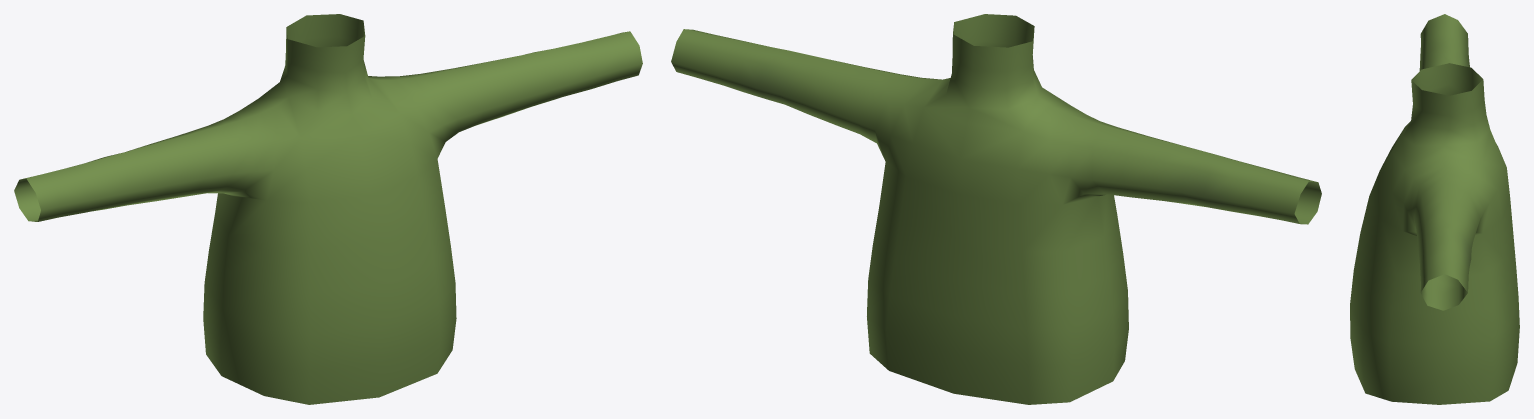
The model's file is Body_Green_Top_2.fbx.
3 views of the same model, side by side, from view 1: azimuth 30°, elevation 25°; view 2: azimuth 150°, elevation 25°; view 3: azimuth 270°, elevation 25° (orthographic). The views are drawn at different scales.
Visible parts, largest first — view 1: Body_Green_Top_2; view 2: Body_Green_Top_2; view 3: Body_Green_Top_2.
Part boxes in pixels (bbox=[...]): Body_Green_Top_2: bbox=[14, 14, 642, 404]; Body_Green_Top_2: bbox=[671, 14, 1321, 404]; Body_Green_Top_2: bbox=[1350, 14, 1519, 404].
Bounding box in the file's own units: 95.86 × 49.84 × 26.46.
